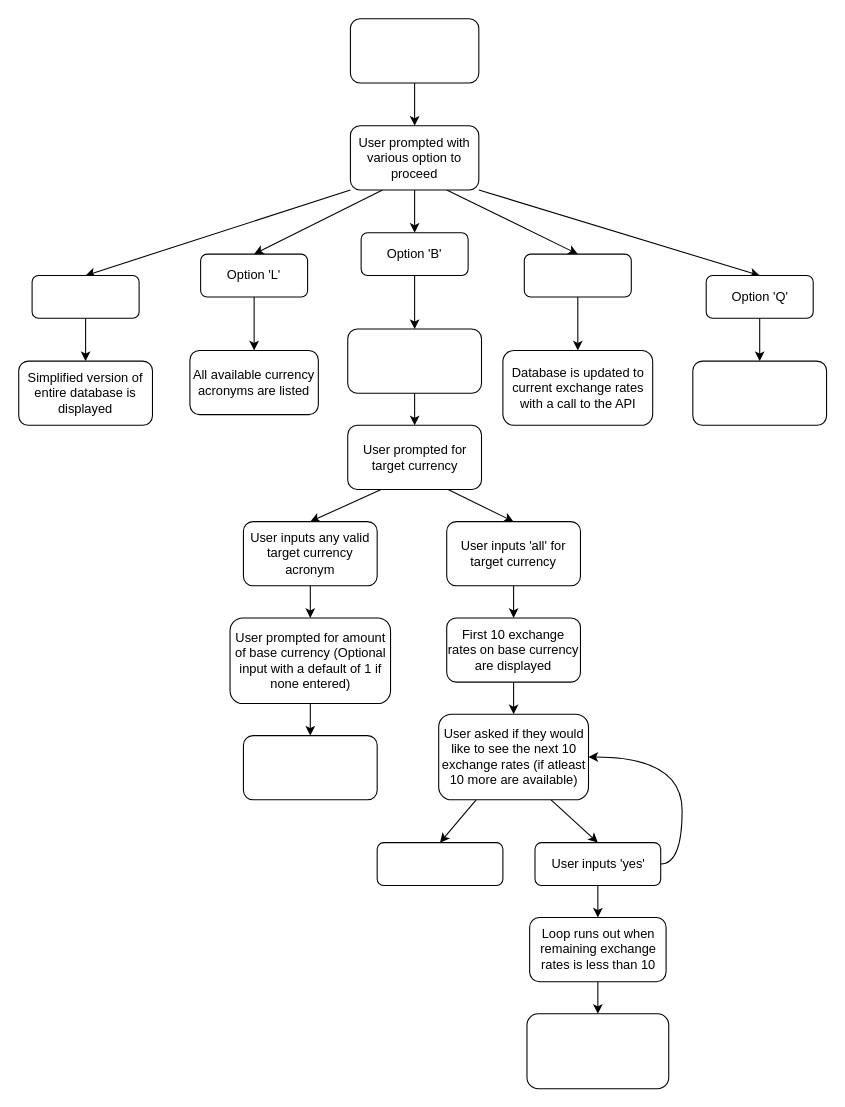
Image size: 845x1107. Some labels were removed from this diagram. The centre of each missing label's shape, as x and y in pixels:
"Base to target currency rate based on amount (if input) are displayed" belongs at [309,767].
"Currency exchange database pre-loaded with API data" belongs at [414,50].
"Option 'U'" belongs at [577,275].
"Option 'V'" belongs at [85,296].
"Runs out of program's loop, exiting the current run" belongs at [759,392].
"User asked if they would like to see remaining exchange rates" belongs at [597,1051].
"User inputs 'no'" belongs at [439,863].
"User prompted for base currency" belongs at [414,360].
